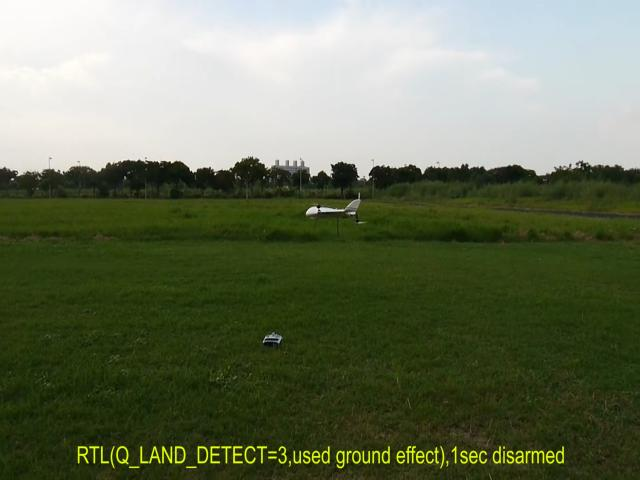plane: (304, 193, 364, 237)
